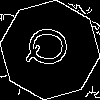Q: (25, 25, 78, 69)
